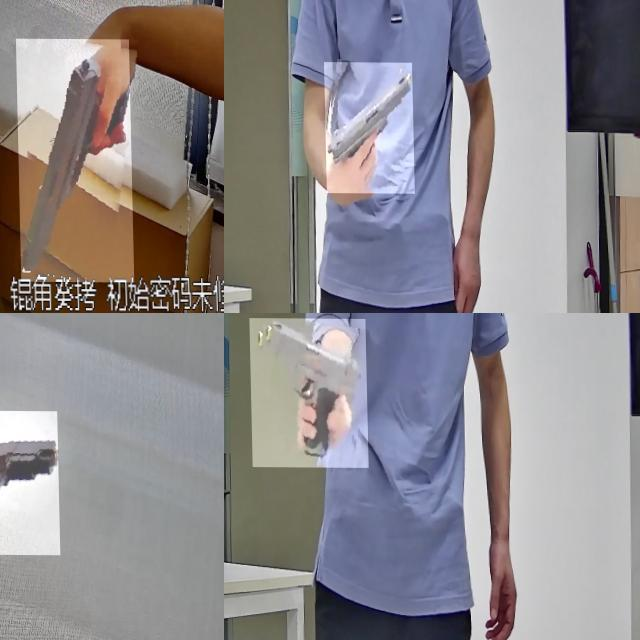gun-knife-thesis - v11 Yolov5 augmented: (15, 39, 132, 282), (249, 318, 367, 468), (324, 62, 414, 194), (0, 410, 77, 555)
